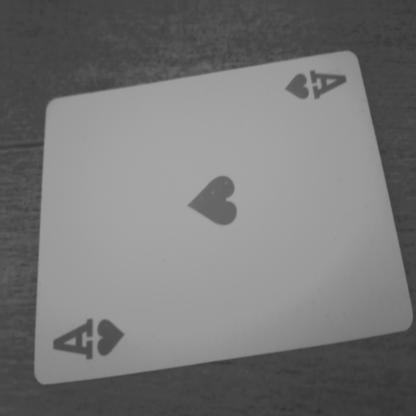AH: (48, 300, 142, 364), (272, 54, 360, 119)
